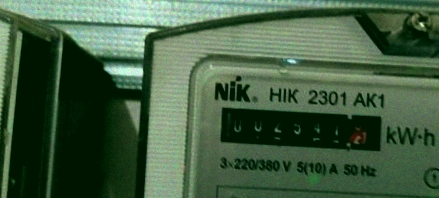0: (229, 111, 243, 133), (250, 111, 263, 132)
1: (329, 117, 341, 137)
2: (270, 113, 283, 134)
4: (310, 115, 323, 136)
5: (289, 113, 302, 136)
6: (350, 130, 362, 146)
screen: (208, 95, 393, 161)
